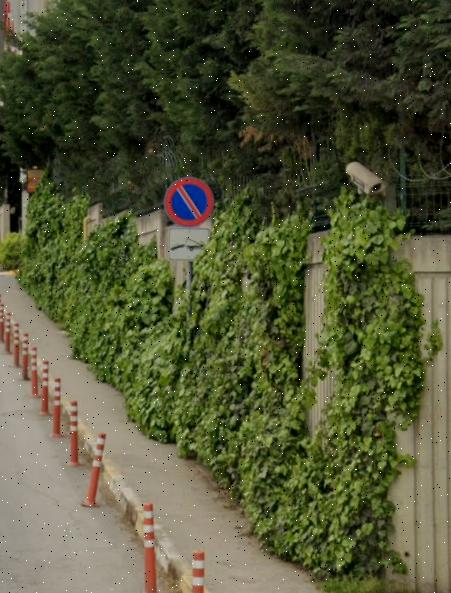nopark: (168, 178, 215, 224)
